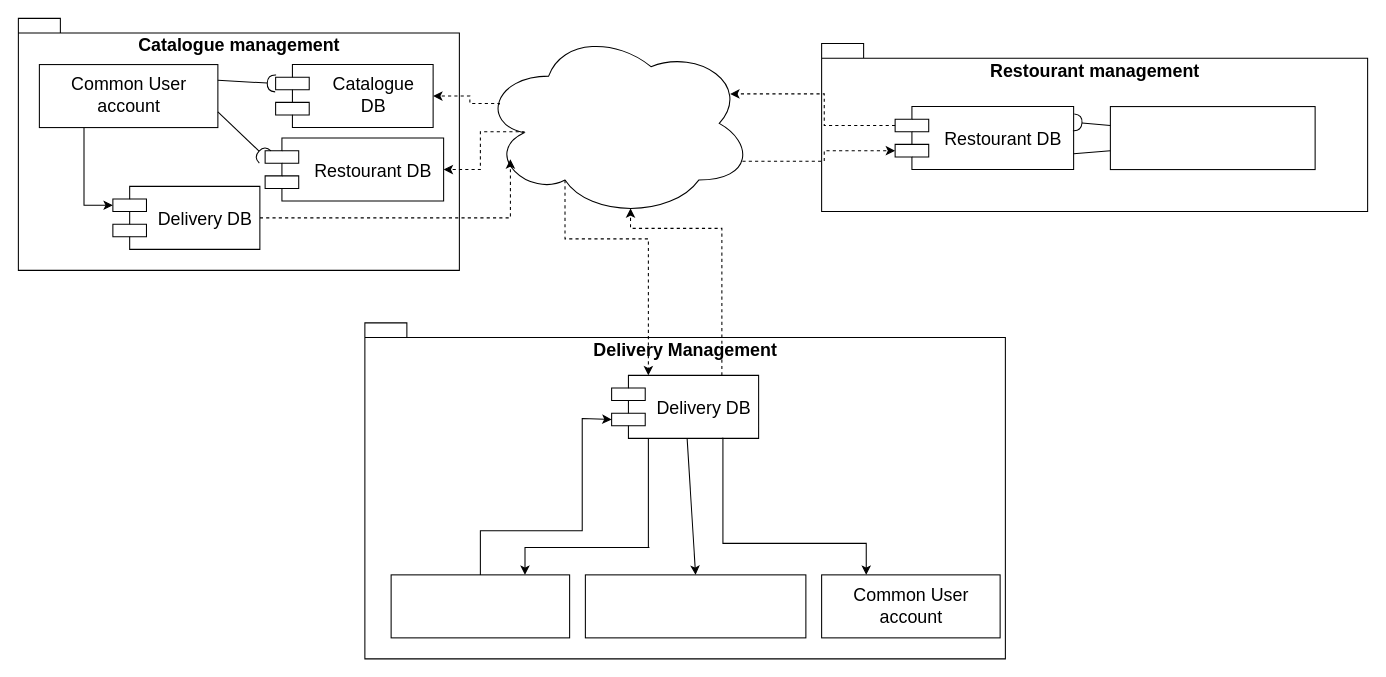
The diagram is 1386 pixels wide and 677 high, and some of its shapes have lost their labels. Each missing label, with the centre of its shape:
Courrier account: (x=480, y=606)
Internet: (x=616, y=123)
Restaurant manager account: (x=695, y=606)
Restourant Manager account: (x=1212, y=138)
